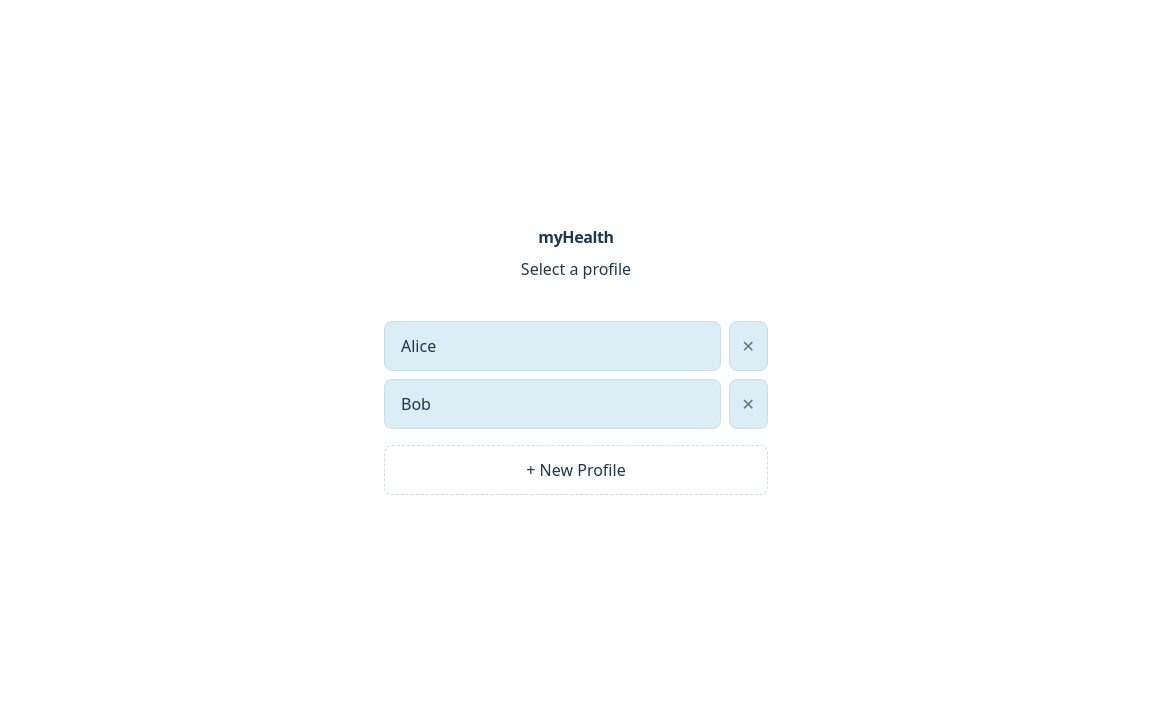
Scenario: ProfilesPage — delete flow › opens confirmation dialog when delete button clicked
This screenshot has width=1152, height=720.
Click the 1st button with test id "delete-profile-btn" at (748, 346), box top-left (729, 321), bottom-right (768, 371)
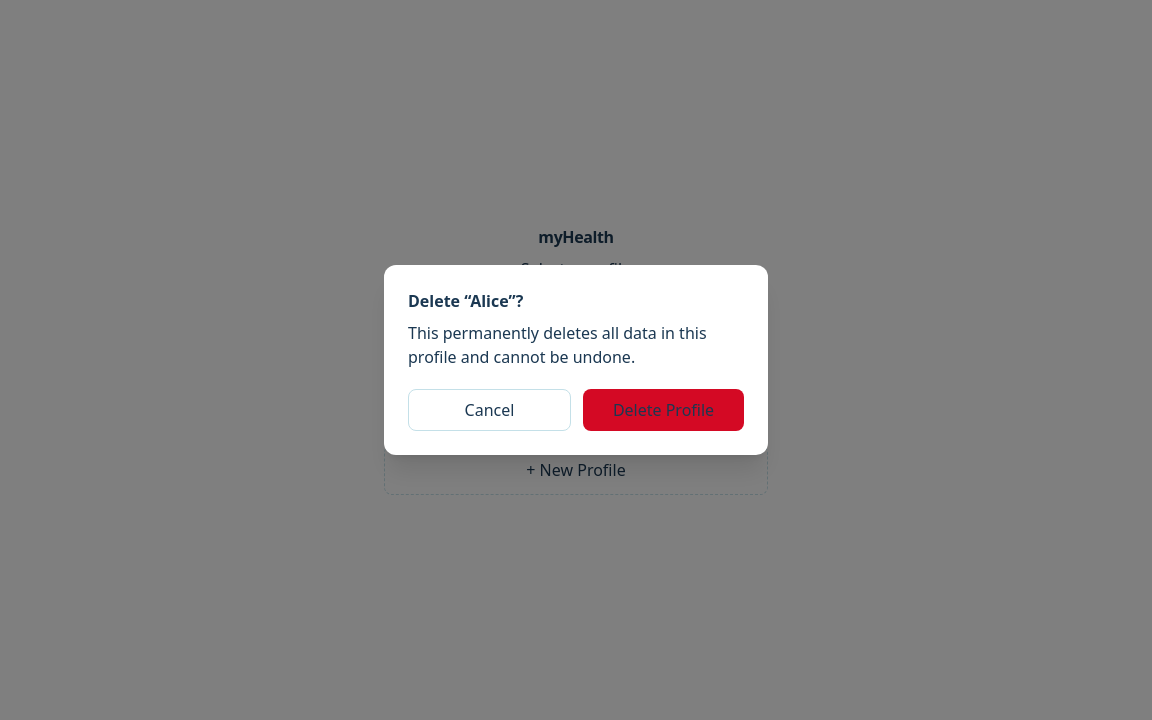
Expected: the dialog is shown
Expected: the heading "Delete “Alice”?" is shown, top-left (408, 290), bottom-right (523, 312)
